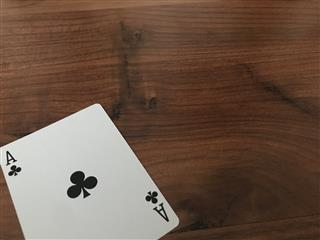AceOfClubs: (1, 102, 180, 239)
